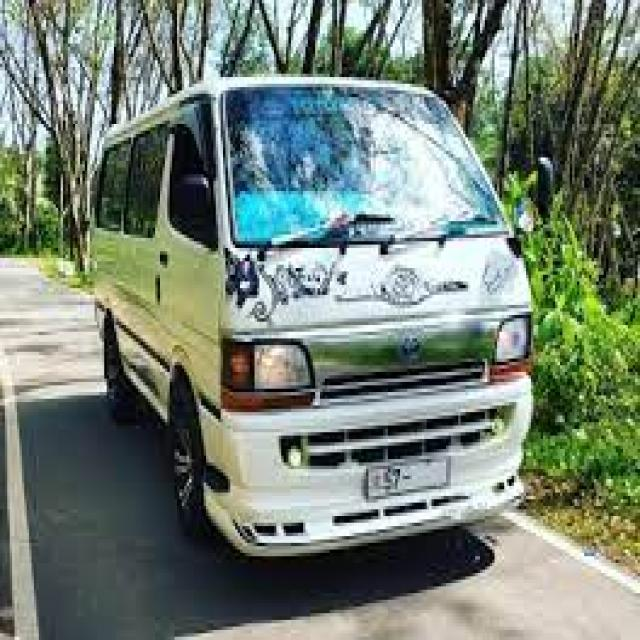van: (95, 77, 531, 556)
